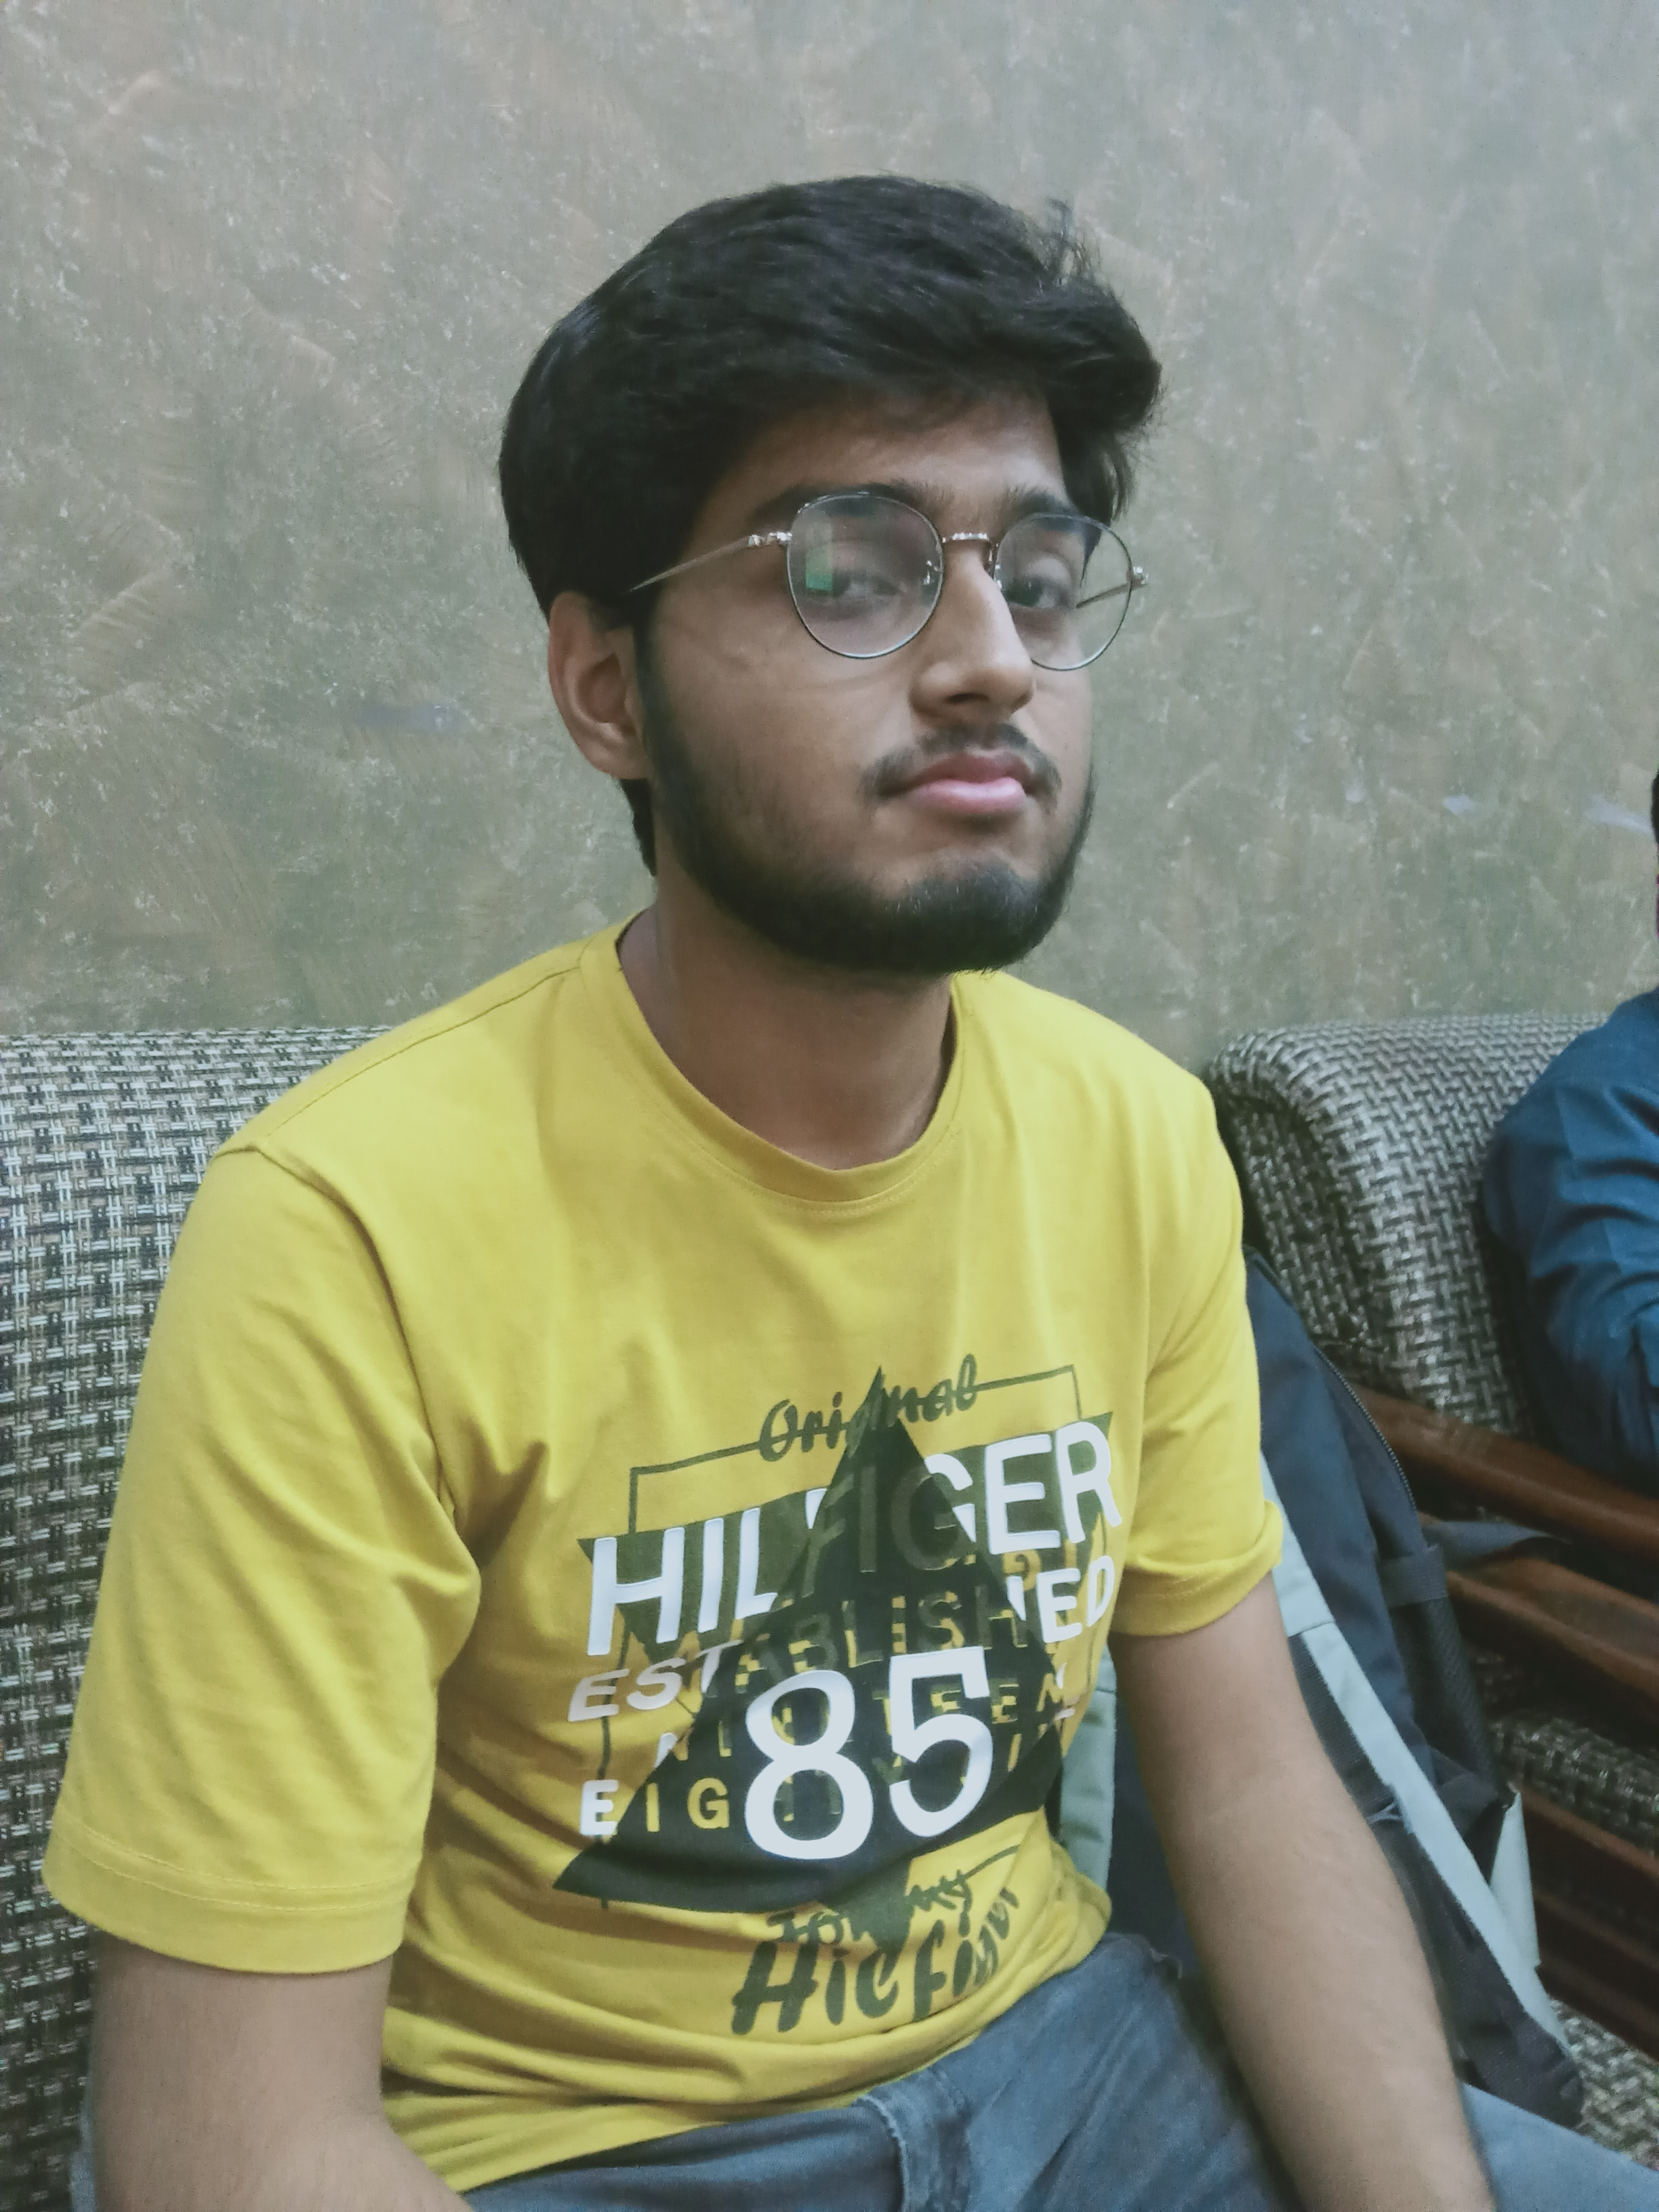NoMask: (718, 459, 1094, 947)
